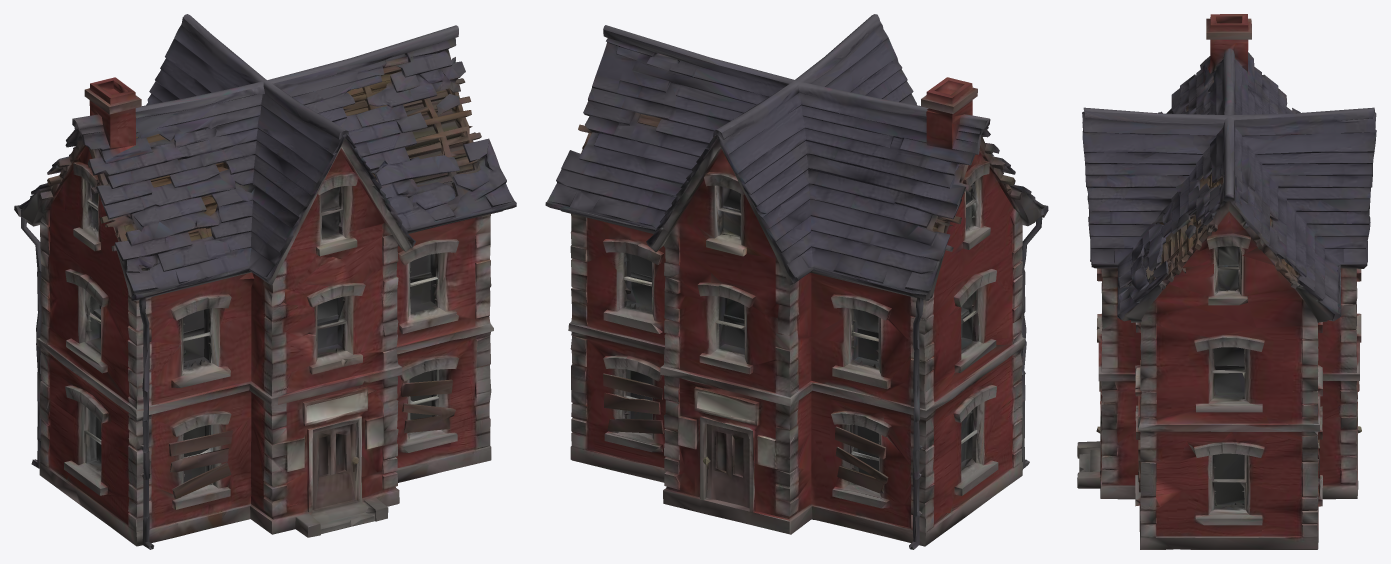
The model's file is house_brick2_c_idle.glb.
3 views of the same model, side by side, from view 1: azimuth 30°, elevation 25°; view 2: azimuth 150°, elevation 25°; view 3: azimuth 270°, elevation 25° (orthographic). The views are drawn at different scales.
Visible parts, largest first — view 1: tripo_node_62071756-cb4c-444c-941d-675663b141b6; view 2: tripo_node_62071756-cb4c-444c-941d-675663b141b6; view 3: tripo_node_62071756-cb4c-444c-941d-675663b141b6.
Part boxes in pixels (left/top/right/bottom): tripo_node_62071756-cb4c-444c-941d-675663b141b6: left=14, top=14, right=516, bottom=549; tripo_node_62071756-cb4c-444c-941d-675663b141b6: left=545, top=14, right=1048, bottom=549; tripo_node_62071756-cb4c-444c-941d-675663b141b6: left=1077, top=14, right=1376, bottom=549.
Bounding box in the file's own units: 9 × 9.37 × 6.64.
1 material, 1 textured.
